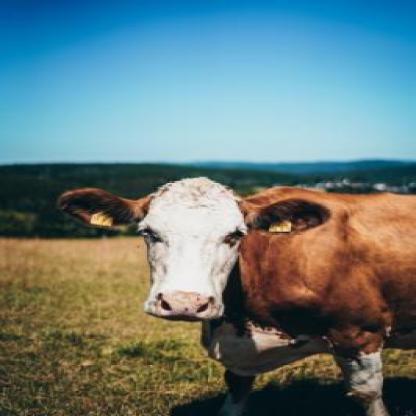mouth: (147, 291, 222, 321)
upper: (184, 299, 196, 309)
